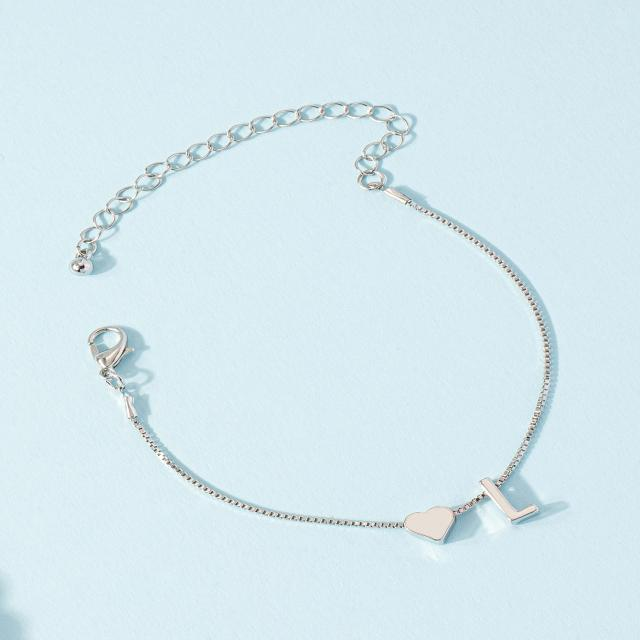bracelet: (22, 41, 608, 562)
